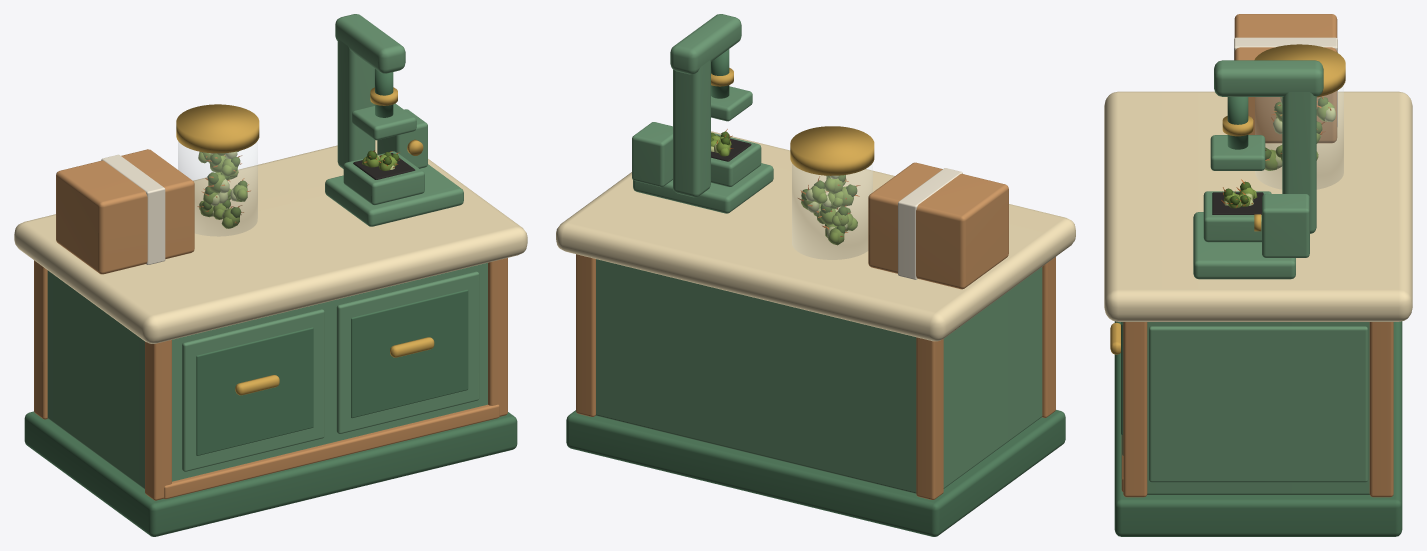
Rendered from pack_bench_tier1.glb.
3 views of the same model, side by side, from view 1: azimuth 30°, elevation 25°; view 2: azimuth 150°, elevation 25°; view 3: azimuth 270°, elevation 25° (orthographic). The views are drawn at different scales.
Visible parts, largest first — view 1: Top, Body, Plinth, KraftBox, DrawerInset1, DrawerInset0, Drawer1, Drawer0, Jar, OakRail, Post-1-1, PressBase (+10 smaller); view 2: Body, Top, Plinth, KraftBox, Jar, PressColumn, Post-11, JarLid, Post11, PressArm, PressBase, PressSide (+5 smaller); view 3: Top, EndPanel, Plinth, KraftBox, Body, Jar, Post1-1, Post11, PressArm, PressColumn, PressBase, PressSide (+8 smaller).
Boxes of the visible parts, x1,y1,x2,y2 form: Top: (14,140,527,343); Body: (47,262,487,489); Plinth: (24,411,517,536); KraftBox: (56,149,194,274); DrawerInset1: (351,289,468,418); DrawerInset0: (196,327,313,455); Drawer1: (336,271,479,433); Drawer0: (182,309,324,471); Jar: (178,141,257,236); OakRail: (164,404,499,499); Post-1-1: (145,340,171,500); PressBase: (325,164,463,226); Body: (595,259,1042,493); Top: (556,131,1075,341); Plinth: (566,410,1065,536); KraftBox: (868,162,1008,289); Jar: (792,163,872,259); PressColumn: (673,60,710,197); Post-11: (916,337,943,499); JarLid: (790,126,874,175); Post11: (576,254,595,416); PressArm: (670,14,741,74); PressBase: (633,163,773,213); PressSide: (632,122,672,187); Top: (1104,91,1412,321); EndPanel: (1149,326,1367,482); Plinth: (1114,321,1402,536); KraftBox: (1234,14,1337,143); Body: (1147,322,1369,494); Jar: (1255,85,1343,189); Post1-1: (1123,322,1147,497); Post11: (1369,322,1393,497); PressArm: (1214,60,1323,96); PressColumn: (1282,92,1316,233); PressBase: (1193,212,1295,279); PressSide: (1262,194,1309,257).
Bounding box in the file's own units: 1.44 × 1.39 × 0.8999.
